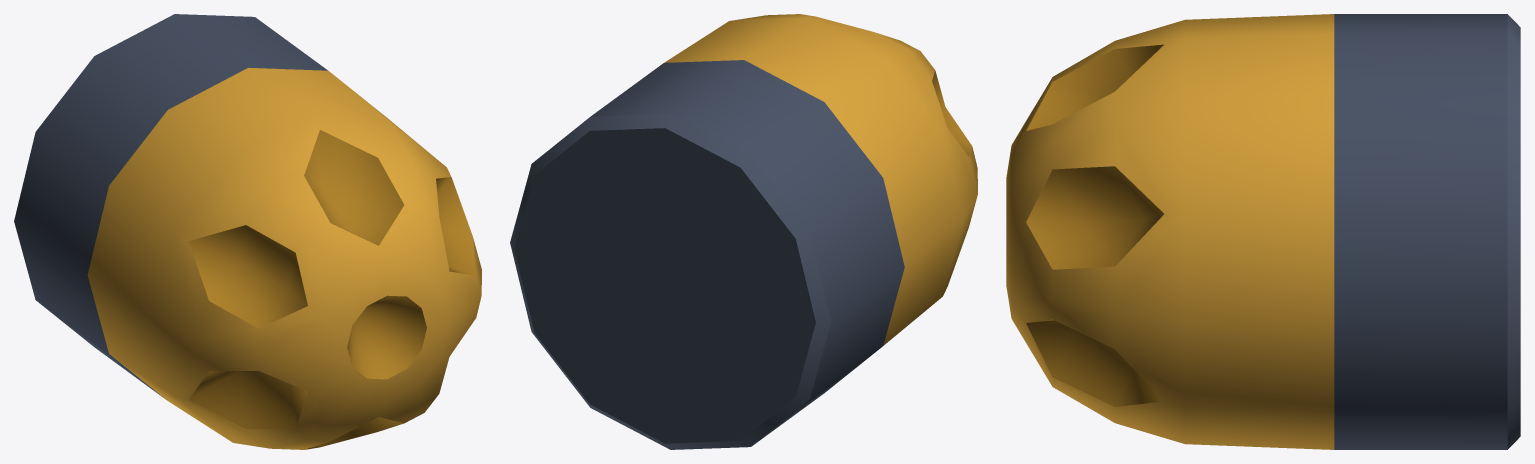
The model's file is GrenadeProjectile01.fbx.
The picture shows the model from 3 angles, left to right: view 1: azimuth 30°, elevation 25°; view 2: azimuth 150°, elevation 25°; view 3: azimuth 270°, elevation 25°; orthographic projection. The views are drawn at different scales.
Visible parts, largest first — view 1: GrenadeProjectile01; view 2: GrenadeProjectile01; view 3: GrenadeProjectile01.
Part boxes in pixels (x1=…): GrenadeProjectile01: x1=14, y1=14, x2=481, y2=449; GrenadeProjectile01: x1=510, y1=14, x2=977, y2=449; GrenadeProjectile01: x1=1006, y1=14, x2=1520, y2=449.
Size of the model in its own units: 1.03 by 1.03 by 1.21.
